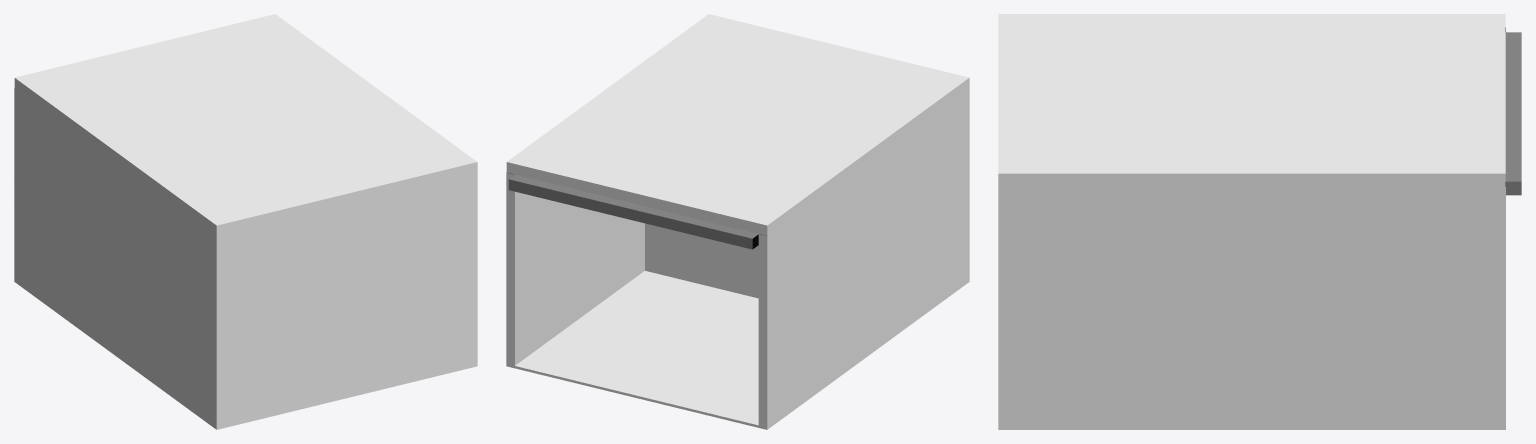
The model's file is gerage.fbx.
The picture shows the model from 3 angles, left to right: view 1: azimuth 30°, elevation 25°; view 2: azimuth 150°, elevation 25°; view 3: azimuth 270°, elevation 25°; orthographic projection. The views are drawn at different scales.
Parts seen in each view (by area): view 1: Cube; view 2: Cube; view 3: Cube.
Part boxes in pixels (box(x1,y1,x2,y2)): Cube: box(14, 14, 477, 429); Cube: box(506, 14, 969, 429); Cube: box(998, 14, 1521, 429).
Size of the model in its own units: 24.7 by 18.49 by 34.22.
Materials: 1 (1 with a texture image).
